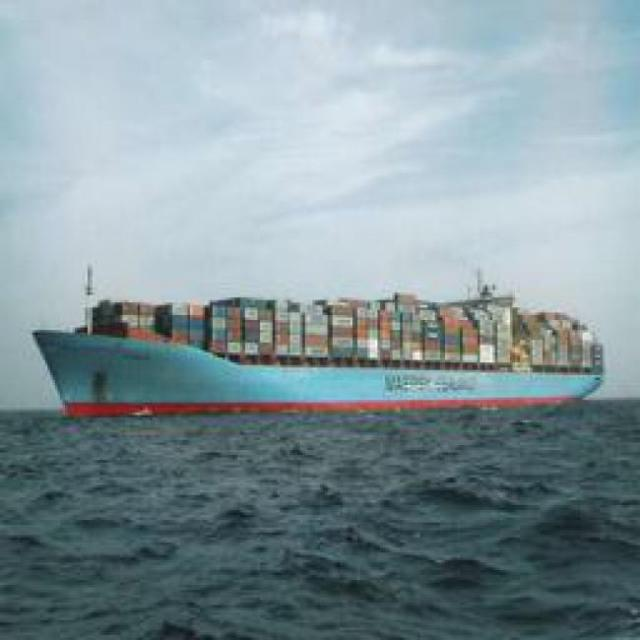boat: (18, 278, 610, 406)
